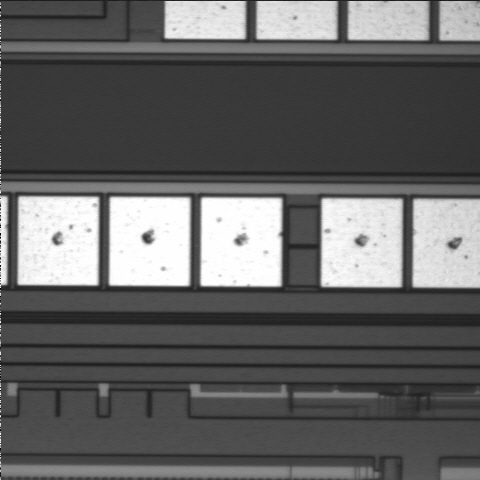pad: (200, 197, 282, 287), (18, 196, 99, 285), (109, 197, 190, 286), (321, 198, 402, 287)
